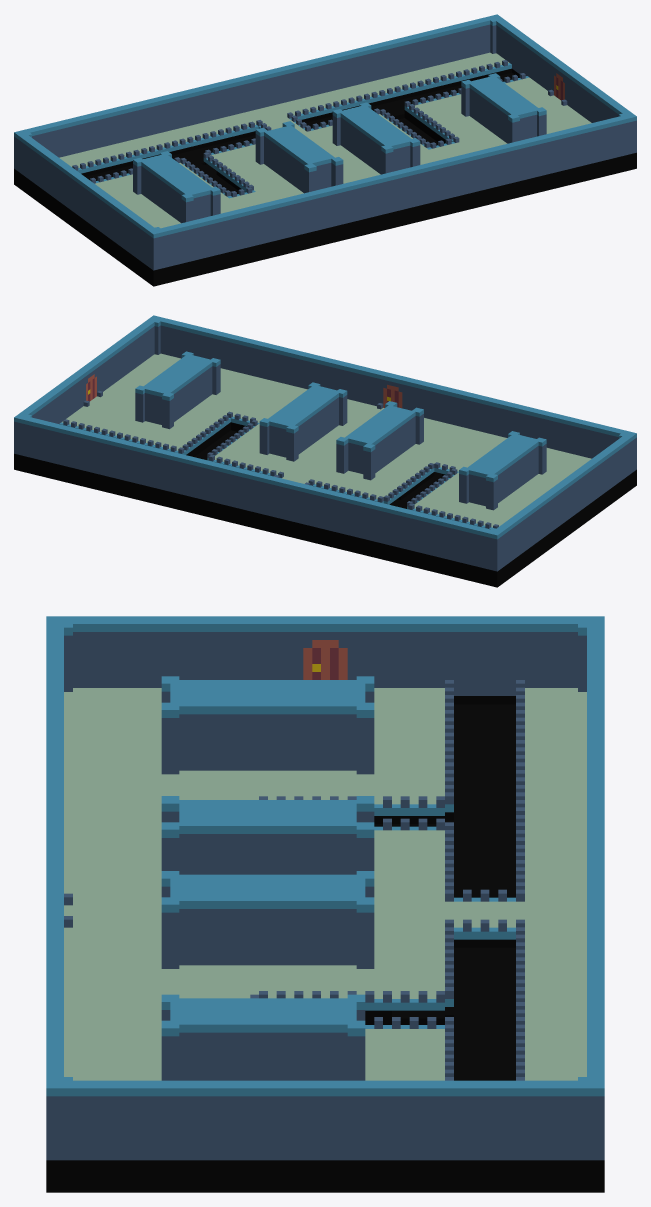
File: hab1.4.obj
3 renders of one model, top to bottom at view 1: azimuth 30°, elevation 25°; view 2: azimuth 150°, elevation 25°; view 3: azimuth 270°, elevation 25°, orthographic. The views are drawn at different scales.
Size of the model in its own units: 126 by 13 by 63.
Materials: 1 (1 with a texture image).
